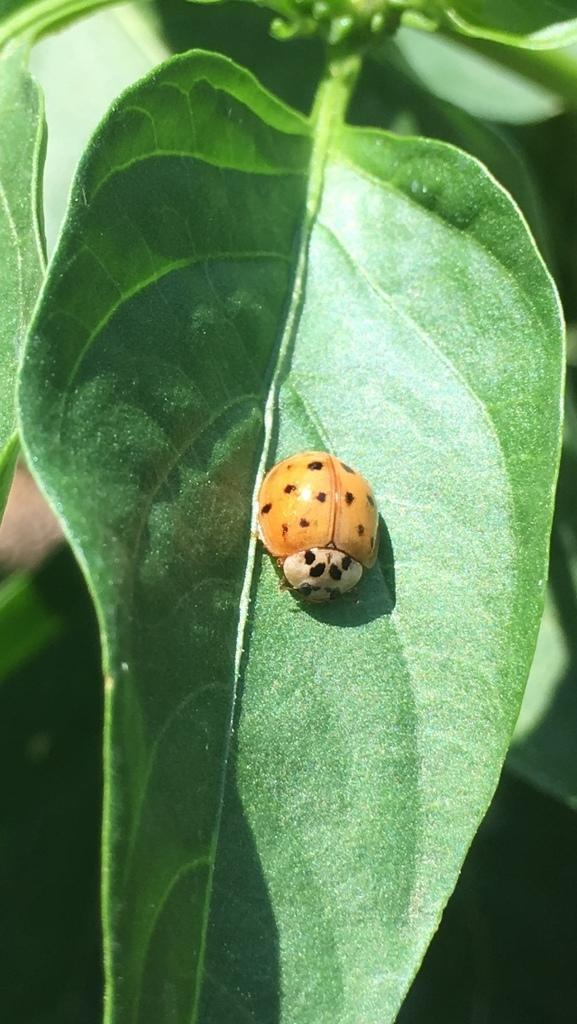ladybug: (254, 449, 384, 611)
